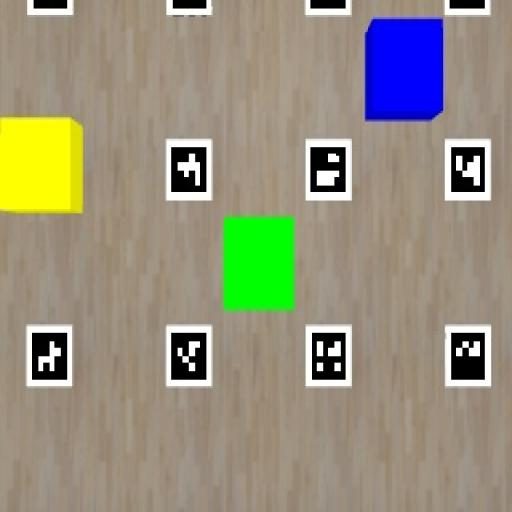car: (365, 18, 444, 121), (224, 218, 294, 311)
fire: (0, 118, 83, 213)
